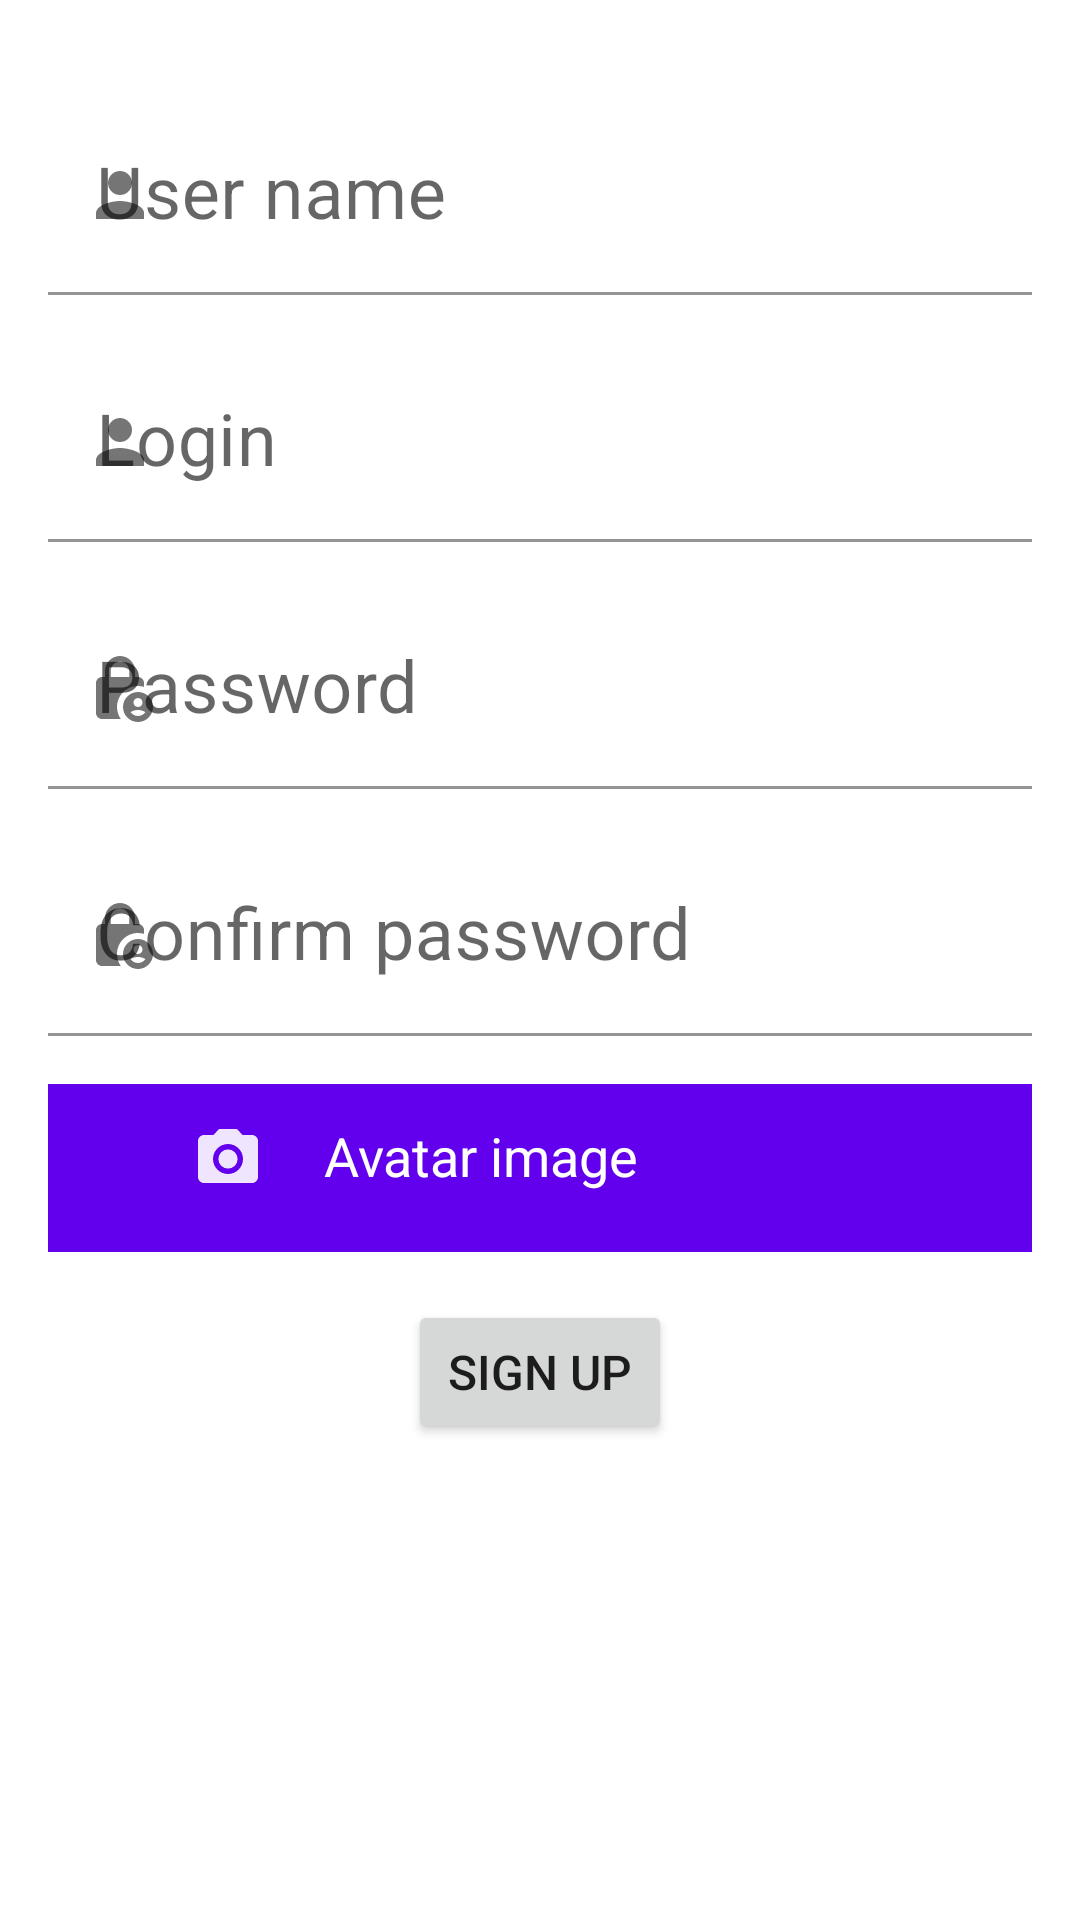

Icon click points for this 1080px x 1920px phone screenshot, format (x,y):
Take photo: (228,1156)
